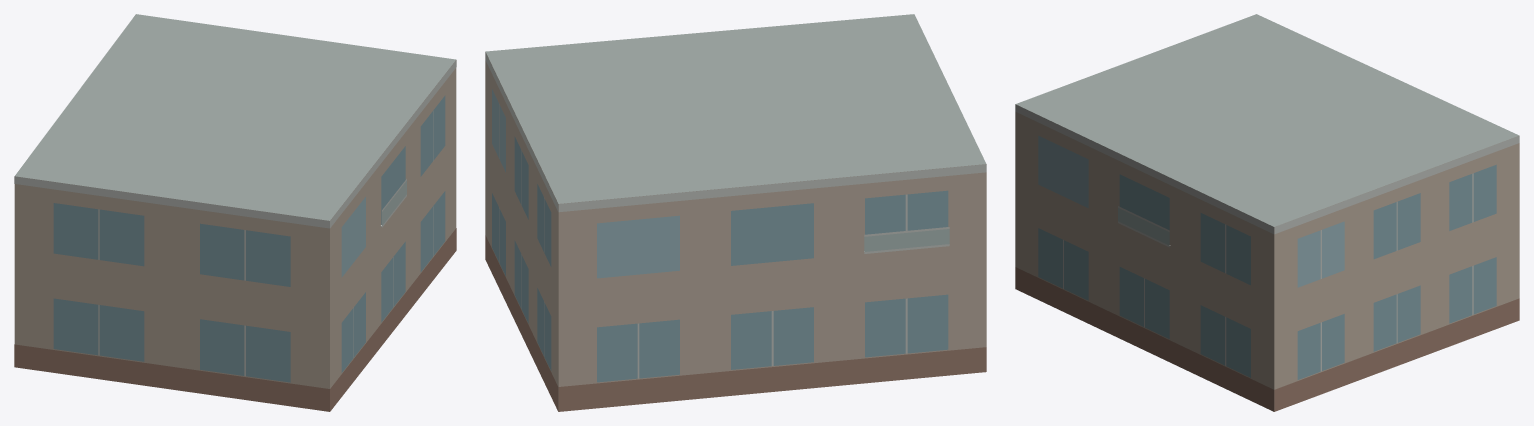
The model's file is survey-upis-32712162.glb.
The picture shows the model from 3 angles, left to right: view 1: azimuth 30°, elevation 25°; view 2: azimuth 150°, elevation 25°; view 3: azimuth 270°, elevation 25°; orthographic projection. The views are drawn at different scales.
Visible parts, largest first — view 1: survey-upis-32712162.tmp; view 2: survey-upis-32712162.tmp; view 3: survey-upis-32712162.tmp.
Part boxes in pixels (bbox=[...]): survey-upis-32712162.tmp: bbox=[14, 14, 456, 411]; survey-upis-32712162.tmp: bbox=[485, 14, 986, 411]; survey-upis-32712162.tmp: bbox=[1015, 14, 1519, 411].
Size of the model in its own units: 15.09 by 6.1 by 15.09.
